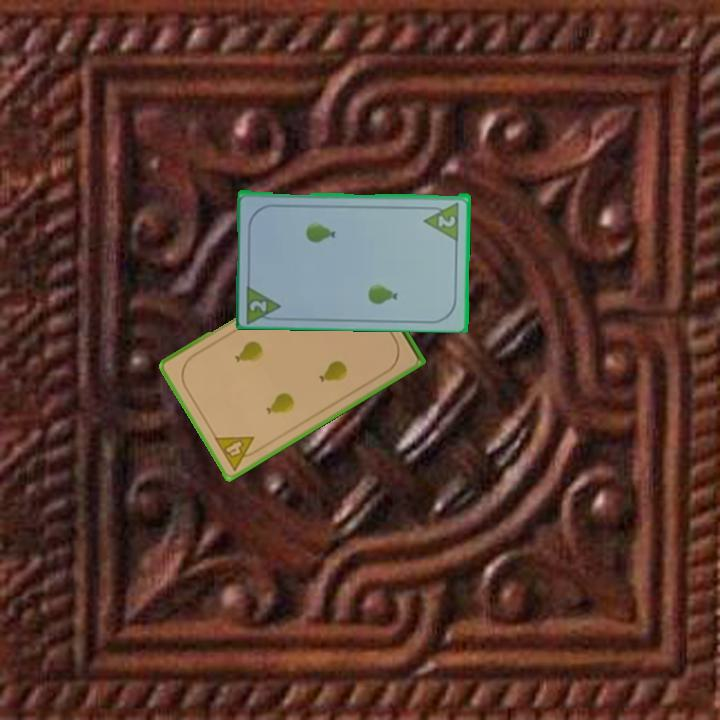2p: (243, 280, 285, 324), (435, 212, 458, 230)
4p: (211, 433, 264, 473)
